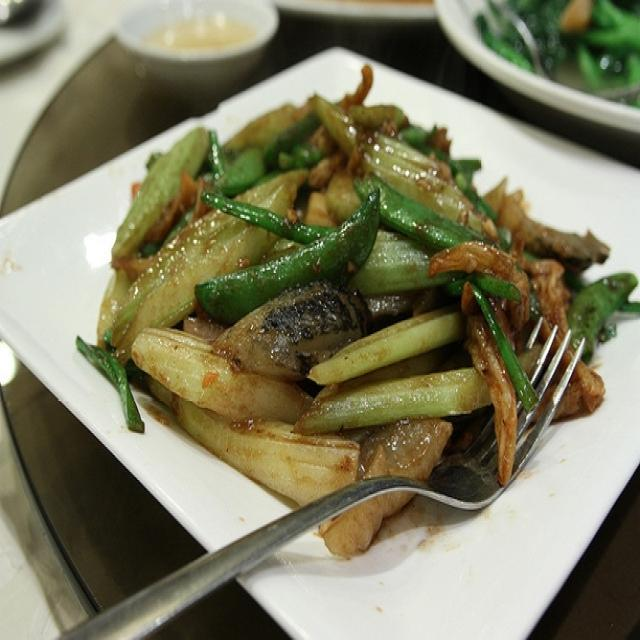蔬菜料理: (31, 35, 617, 621)
